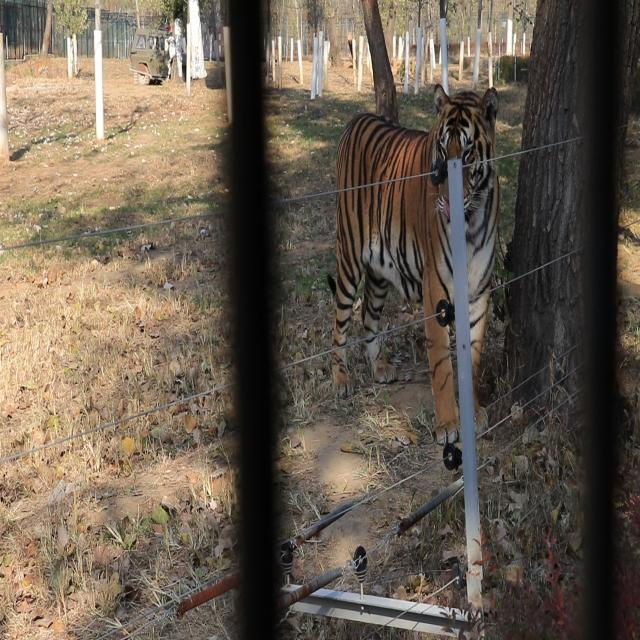Tiger: (318, 76, 503, 460)
